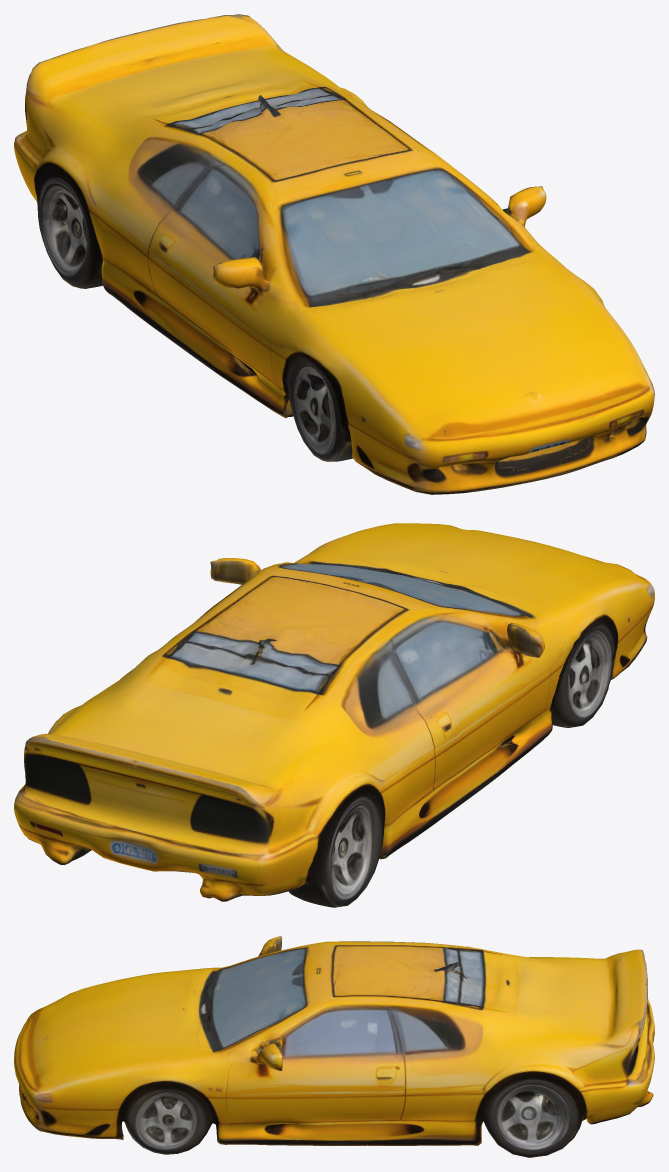
Rendered from car.glb.
3 renders of one model, top to bottom at view 1: azimuth 30°, elevation 25°; view 2: azimuth 150°, elevation 25°; view 3: azimuth 270°, elevation 25°, orthographic. The views are drawn at different scales.
Bounding box in the file's own units: 0.9035 × 0.5043 × 2.01.
Materials: 1 (1 with a texture image).
